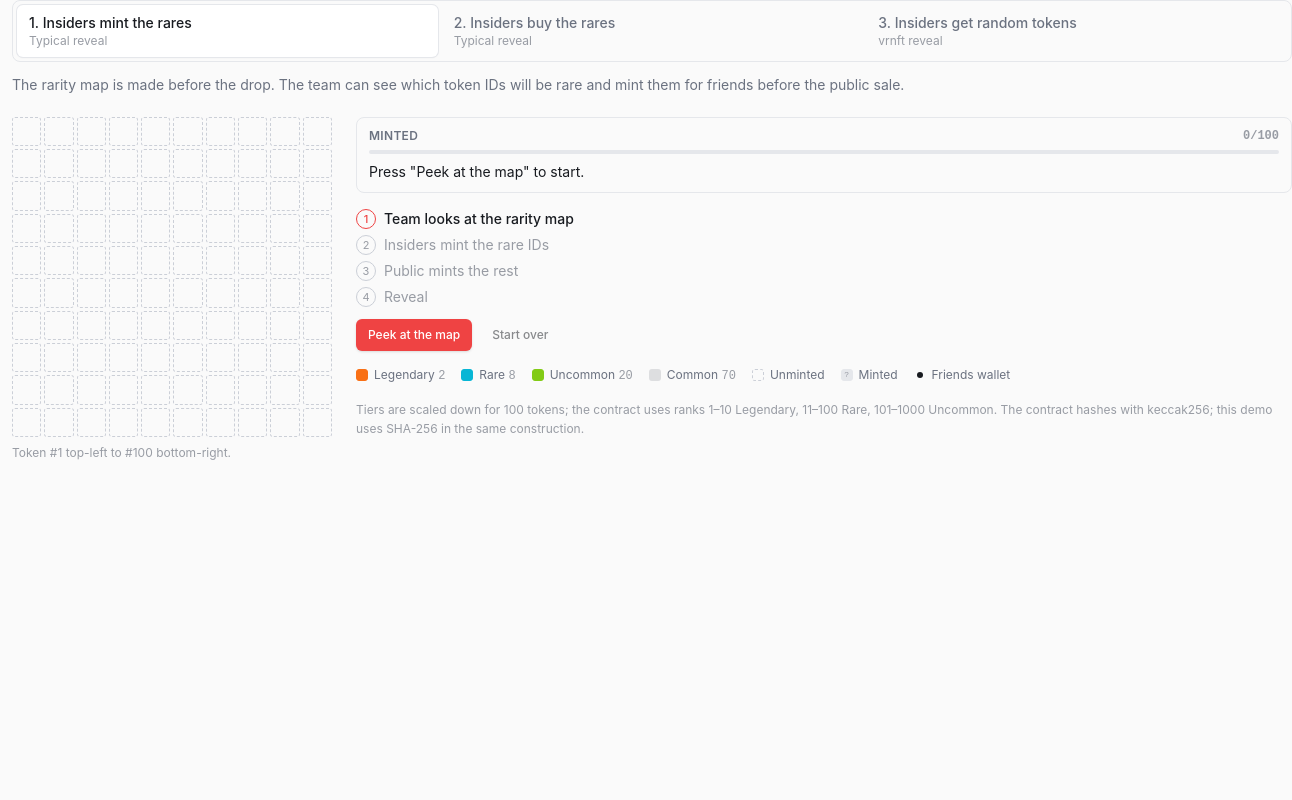
Test case: RevealSimulator › scenario 3: vrnft insiders mint blind, and the revealed map verifies
Click the button "3. Insiders get random tokens vrnft reveal": (1077, 31) [866,5,1287,57]
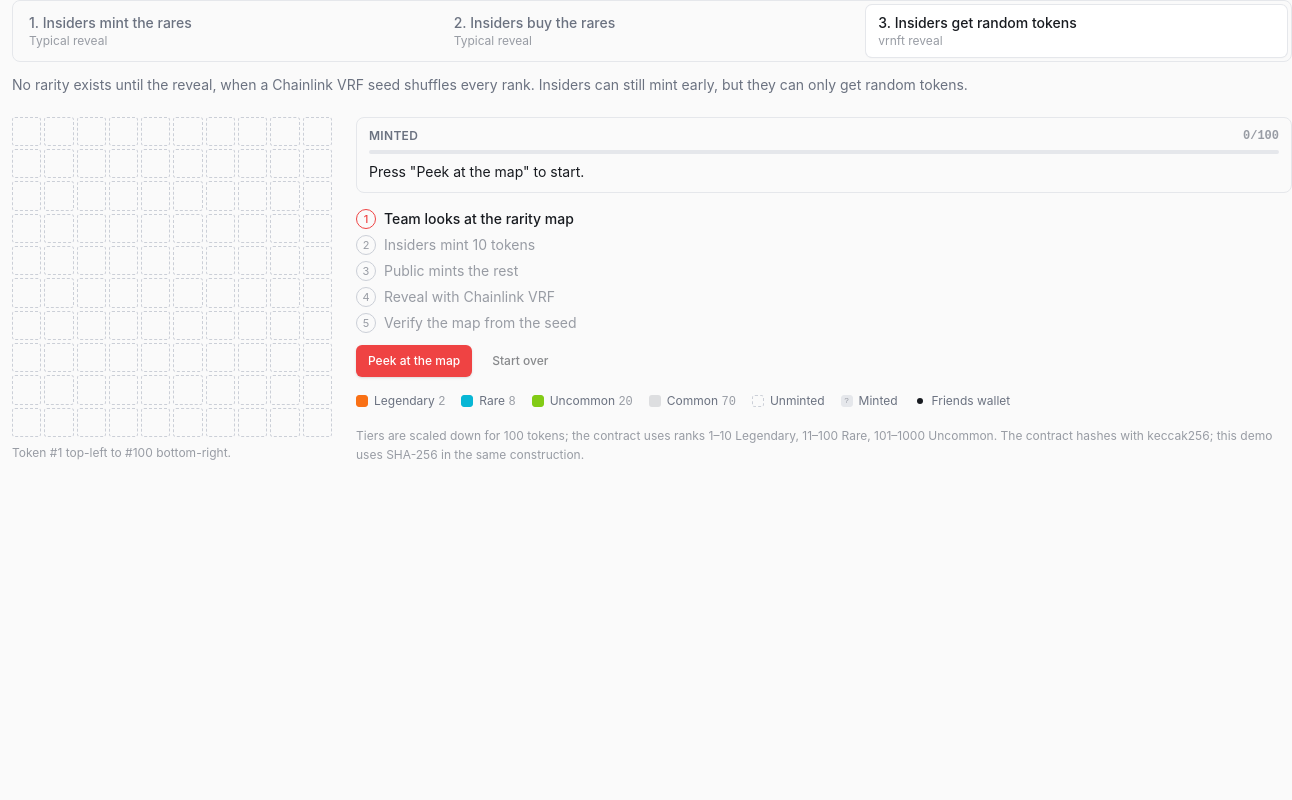
Click the button "Peek at the map": (414, 361) [356,345,472,377]
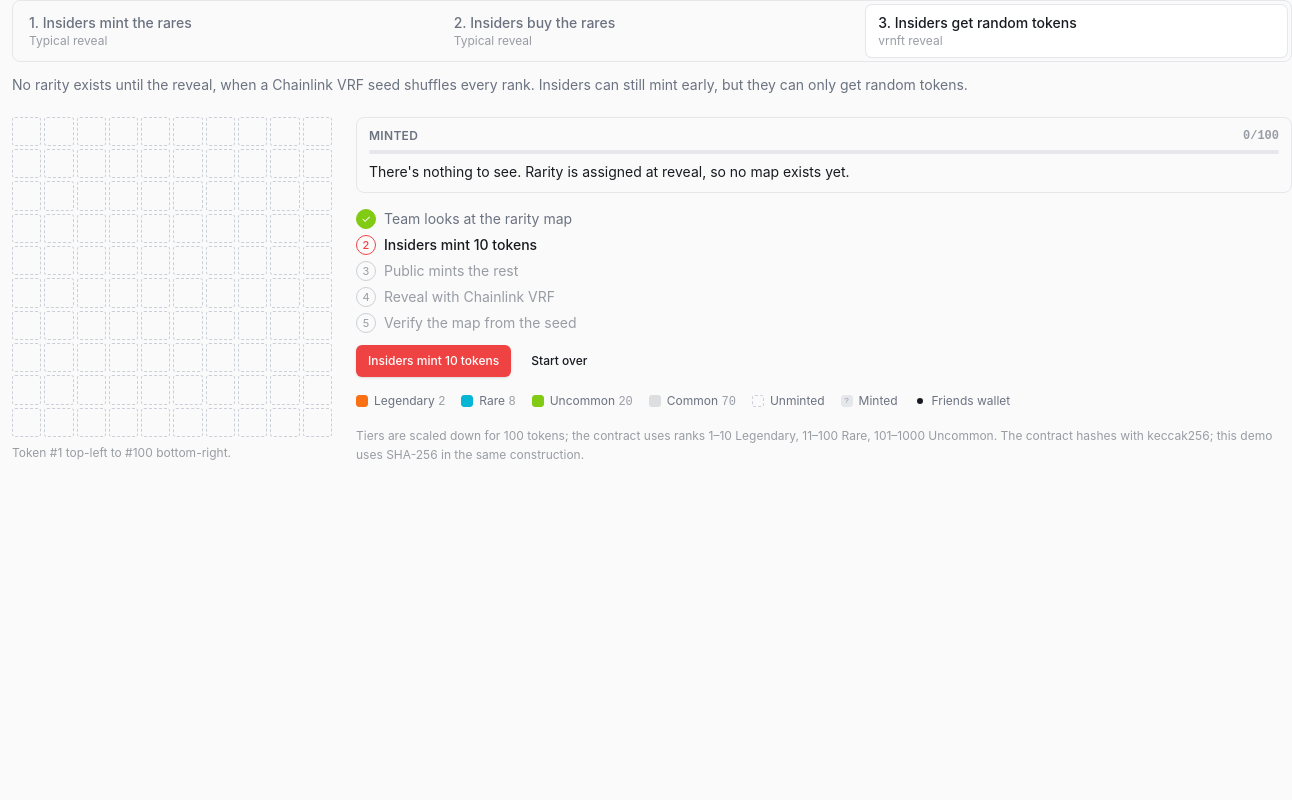
Result: the text "nothing to see" is shown at [369,163,850,180]
Click the button "Insiders mint 10 tokens": (434, 361) [356,345,511,377]
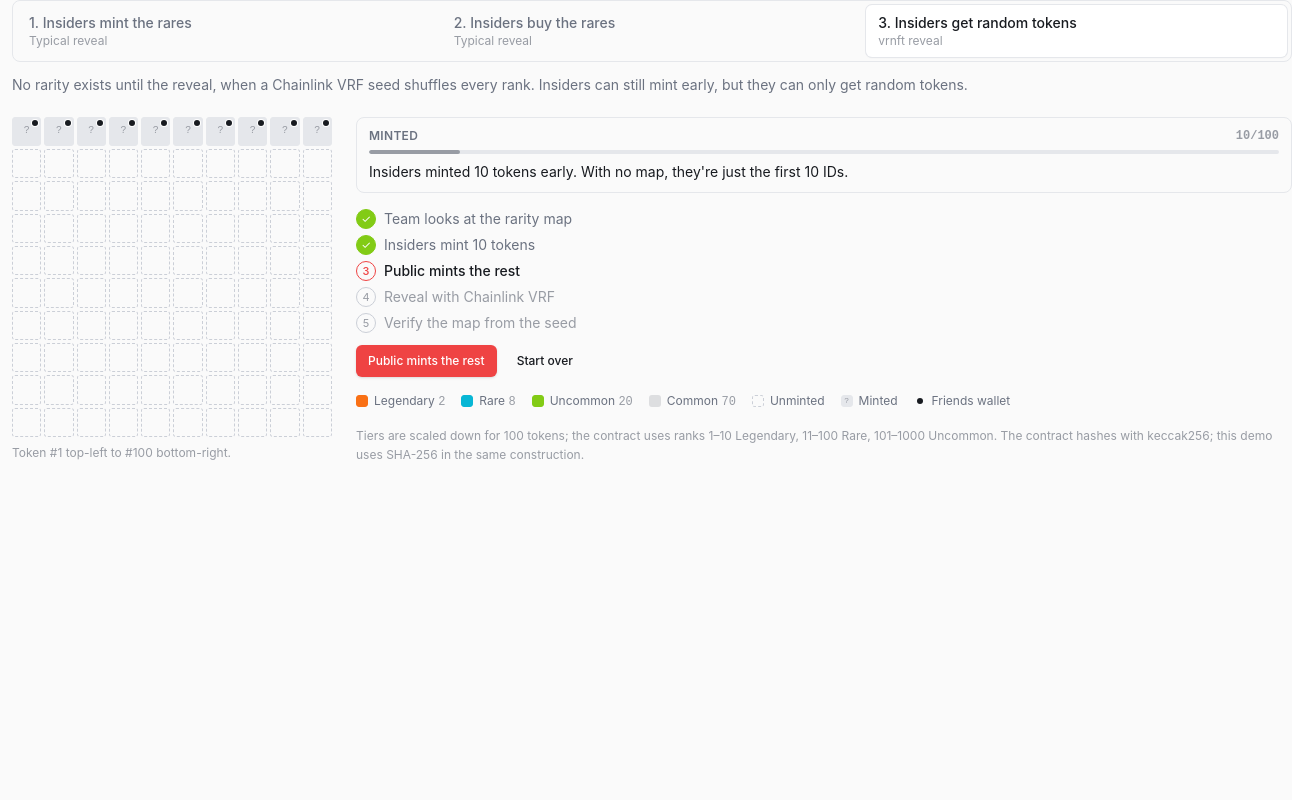
Click the button "Public mints the rest": (426, 361) [356,345,497,377]
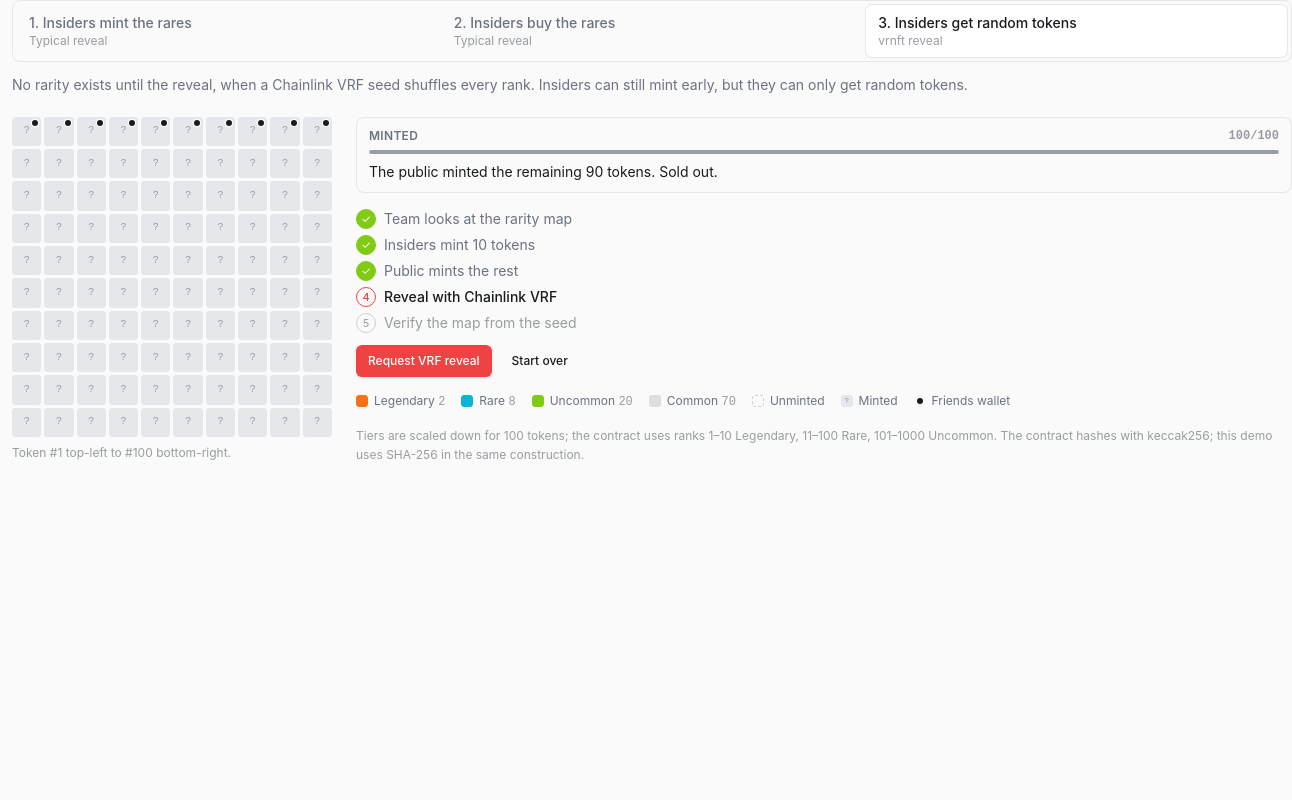
Click the button "Request VRF reveal": (424, 361) [356,345,492,377]
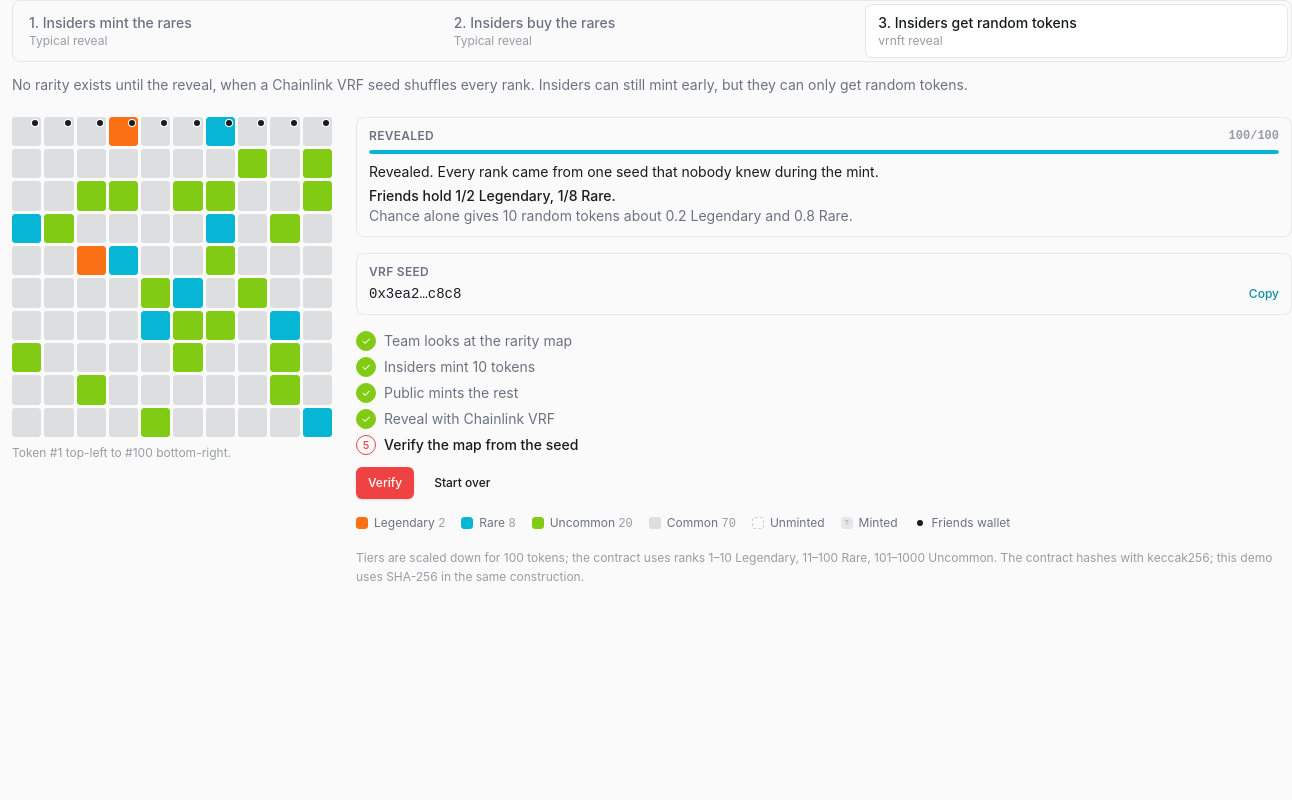
Result: the text titled "0x3ea29590db9dd4cf9a1a23a6d17bc00af98759ec7c57a63a9e2a7ba9e1" is shown at [369,284,461,304]
Result: the text "Chance alone gives 10 random tokens about 0.2" is shown at [369,207,853,224]
Click the button "Verify": (385, 483) [356,467,414,499]
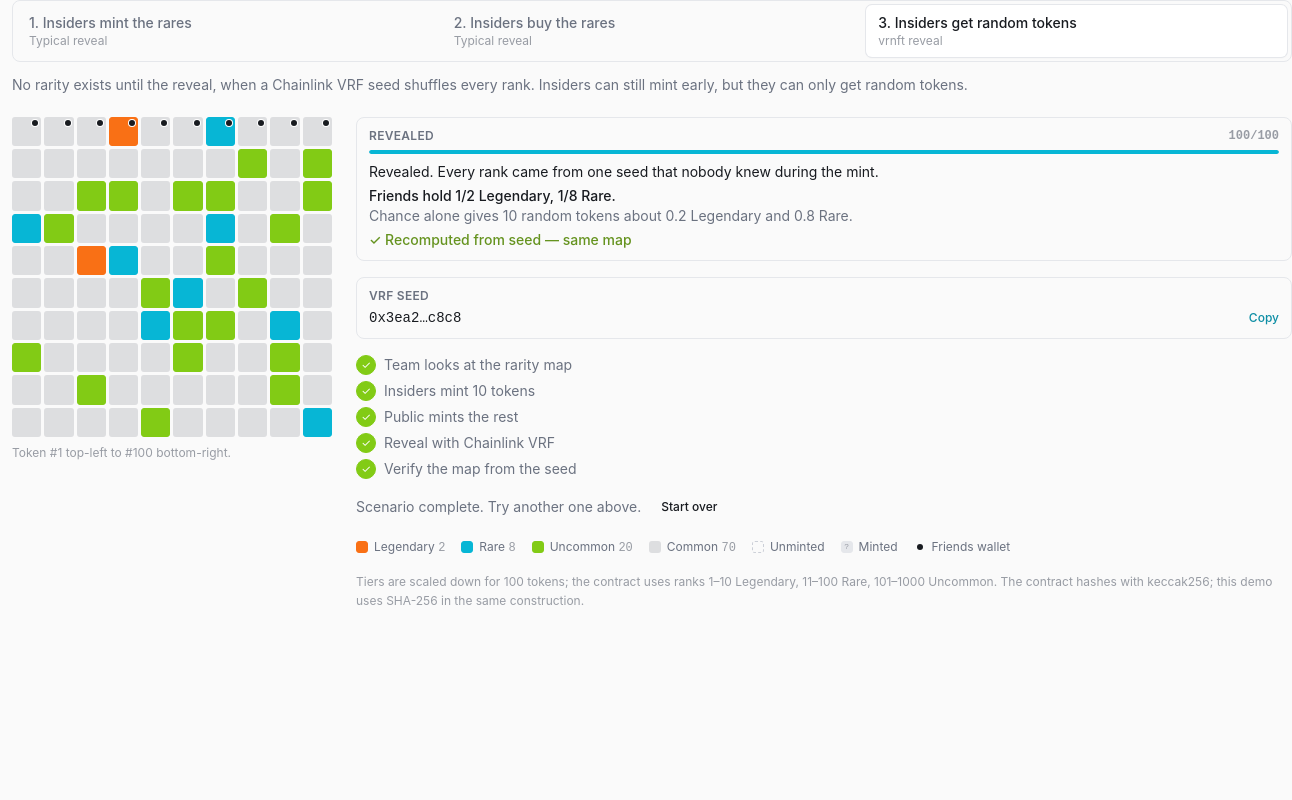
Result: the text "✓ Recomputed from seed — same map" is shown at [369,231,632,248]
Result: the text "Scenario complete. Try another one above." is shown at [356,497,641,517]
